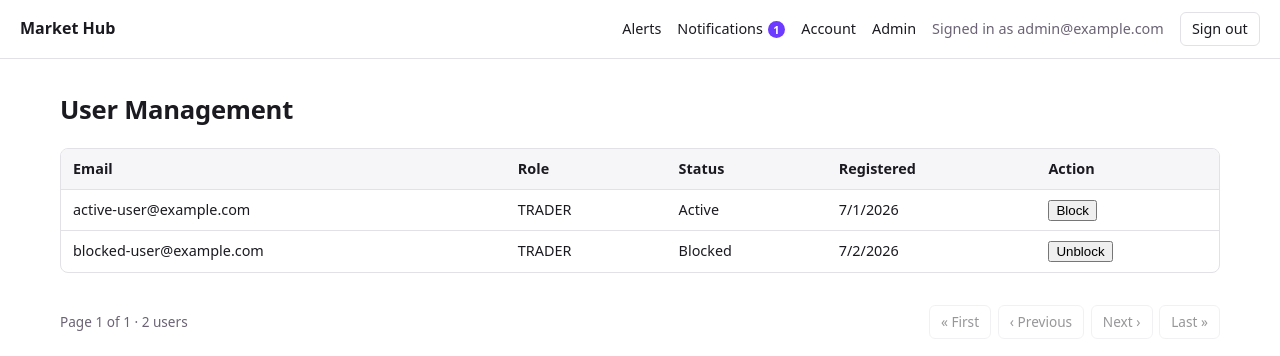
Test: AdminUsersPage › unblocks a blocked user and flips the row to Active
Click the button "Unblock": (1080, 252) [1048,241,1113,262]
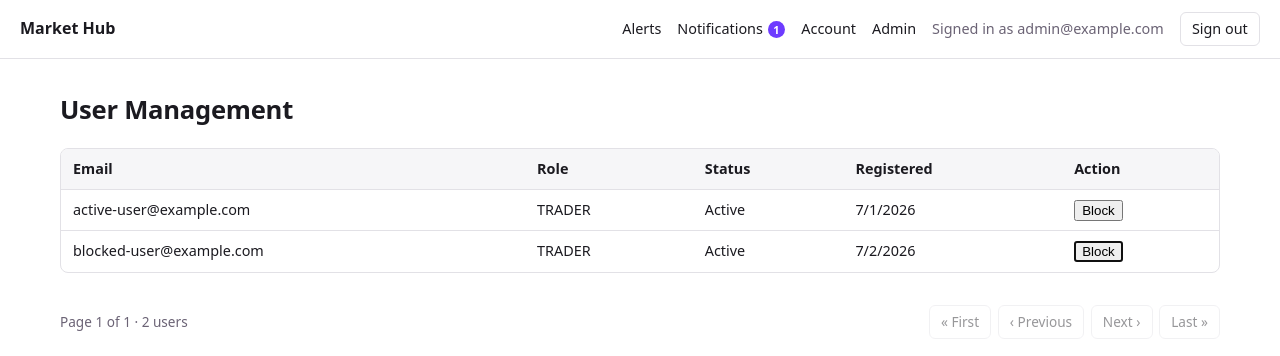
Check: the text "Active" in the row of "blocked-user@example.com" is shown, box [705,241,745,260]
Check: the button "Block" in the row of "blocked-user@example.com" is shown, box [1074,241,1123,262]
